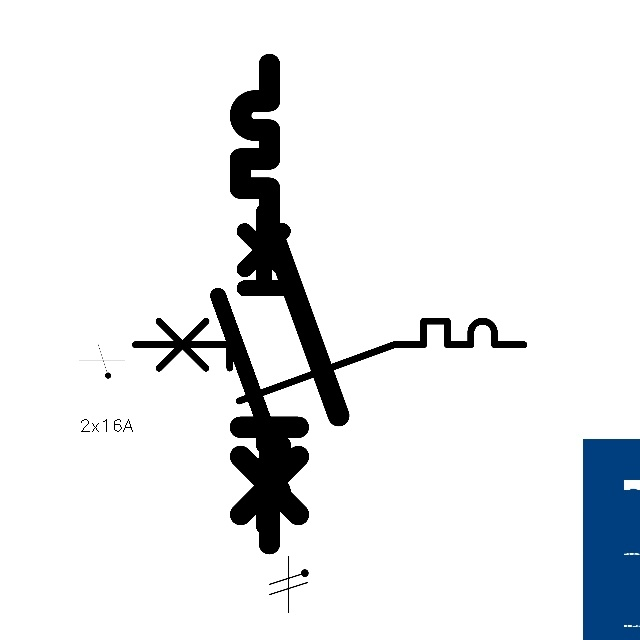interruptor_termomagnetico: (228, 52, 351, 556), (125, 311, 534, 411), (210, 204, 291, 534)
